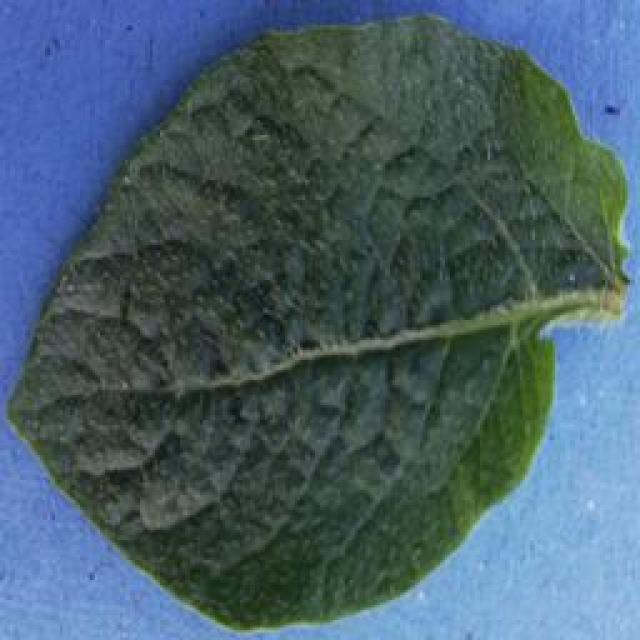Potato_Healthy: (8, 14, 624, 630)
